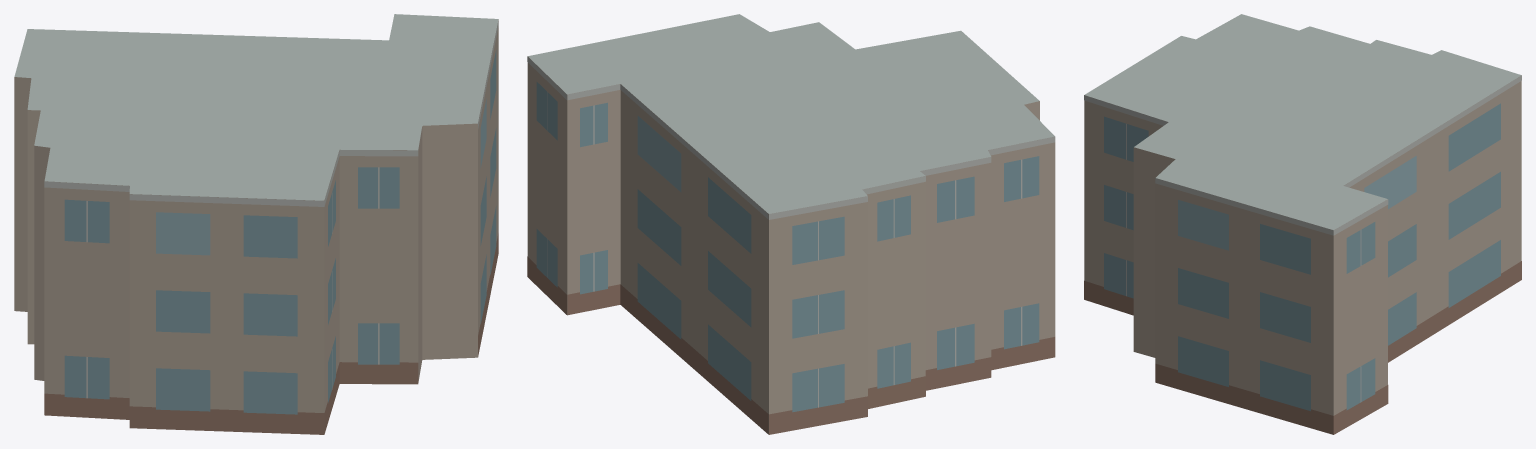
File: survey-upis-32666324.glb
3 views of the same model, side by side, from view 1: azimuth 30°, elevation 25°; view 2: azimuth 150°, elevation 25°; view 3: azimuth 270°, elevation 25° (orthographic). The views are drawn at different scales.
Parts seen in each view (by area): view 1: survey-upis-32666324.tmp; view 2: survey-upis-32666324.tmp; view 3: survey-upis-32666324.tmp.
Boxes of the visible parts, left/top/right/bottom form: survey-upis-32666324.tmp: left=14, top=14, right=498, bottom=434; survey-upis-32666324.tmp: left=527, top=14, right=1055, bottom=434; survey-upis-32666324.tmp: left=1084, top=14, right=1521, bottom=434.
Bounding box in the file's own units: 20.74 × 9.15 × 17.74.
